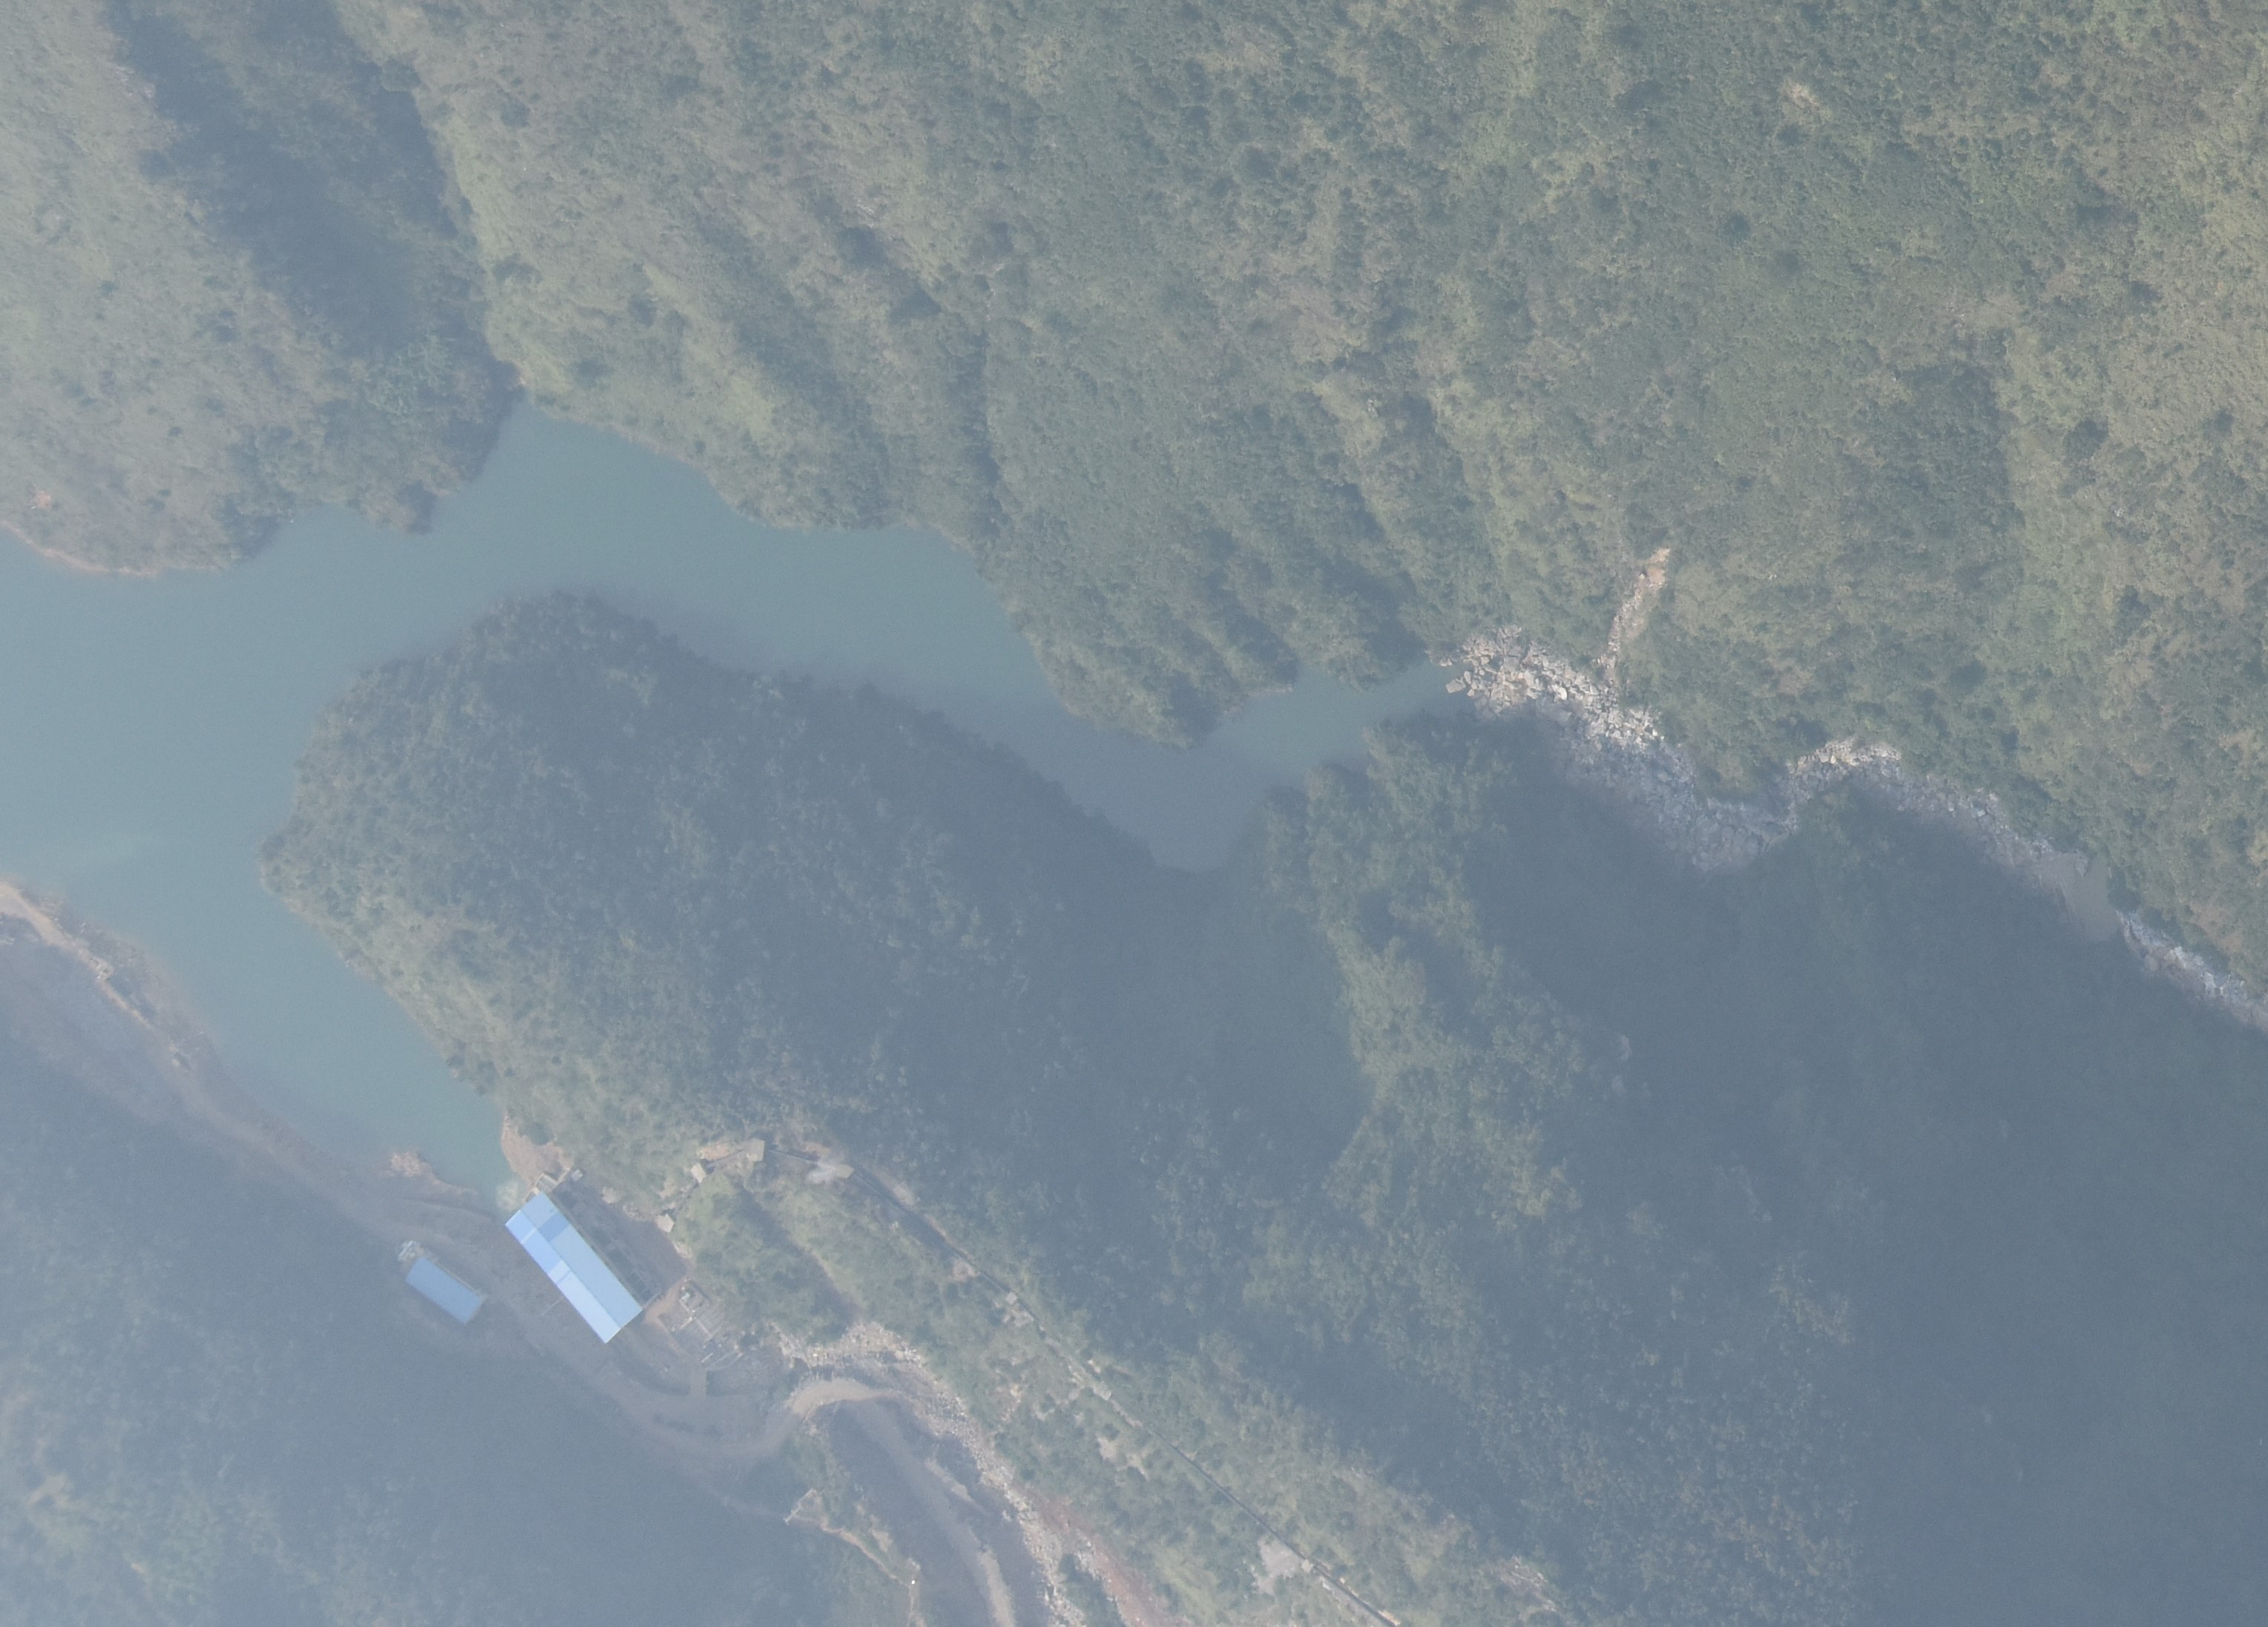prefabricated-house: (502, 1192, 646, 1344), (404, 1258, 482, 1326)
